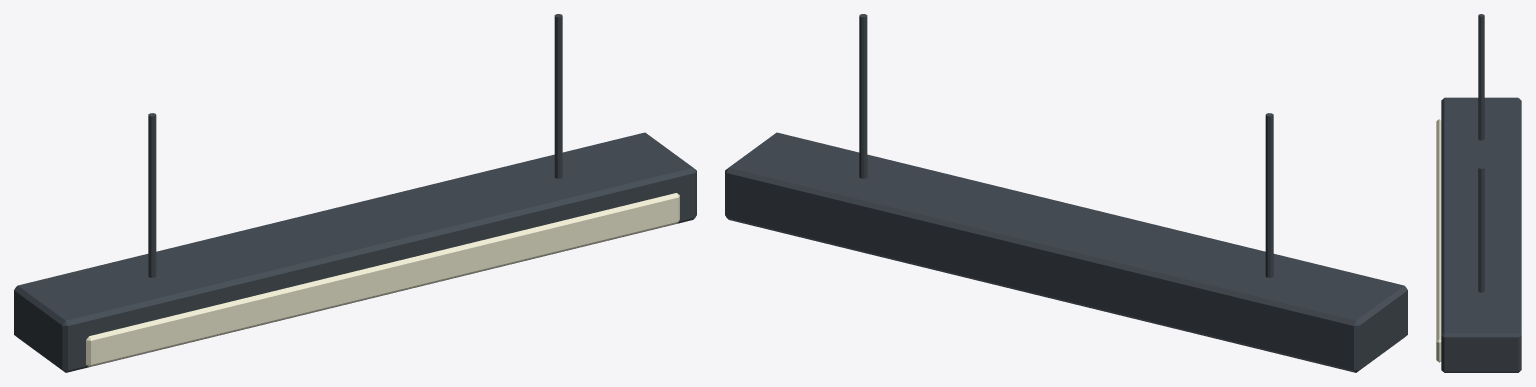
File: CeilingLampShort.fbx
3 renders of one model, left to right at view 1: azimuth 30°, elevation 25°; view 2: azimuth 150°, elevation 25°; view 3: azimuth 270°, elevation 25°, orthographic. The views are drawn at different scales.
Parts seen in each view (by area): view 1: CeilingLampShort; view 2: CeilingLampShort; view 3: CeilingLampShort.
Boxes of the visible parts, x1=… form: CeilingLampShort: x1=14, y1=14, x2=696, y2=372; CeilingLampShort: x1=725, y1=14, x2=1407, y2=372; CeilingLampShort: x1=1436, y1=14, x2=1521, y2=372.
Size of the model in its own units: 140 by 45 by 21.2.
1 material, 1 textured.
